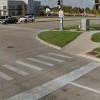crosswalk: (0, 51, 72, 80)
